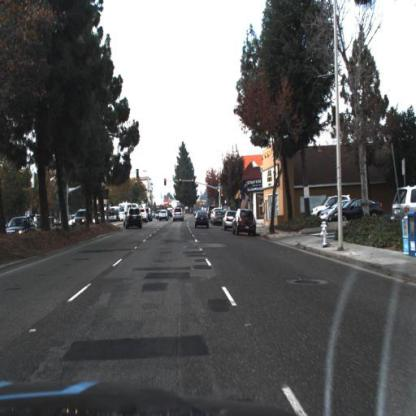car: (334, 196, 387, 222), (232, 207, 259, 243), (310, 195, 352, 218), (5, 215, 39, 240), (124, 208, 146, 234), (71, 206, 90, 231), (191, 209, 212, 230), (223, 209, 237, 236), (212, 208, 228, 229), (212, 207, 226, 228), (172, 207, 186, 224), (159, 210, 169, 222)
